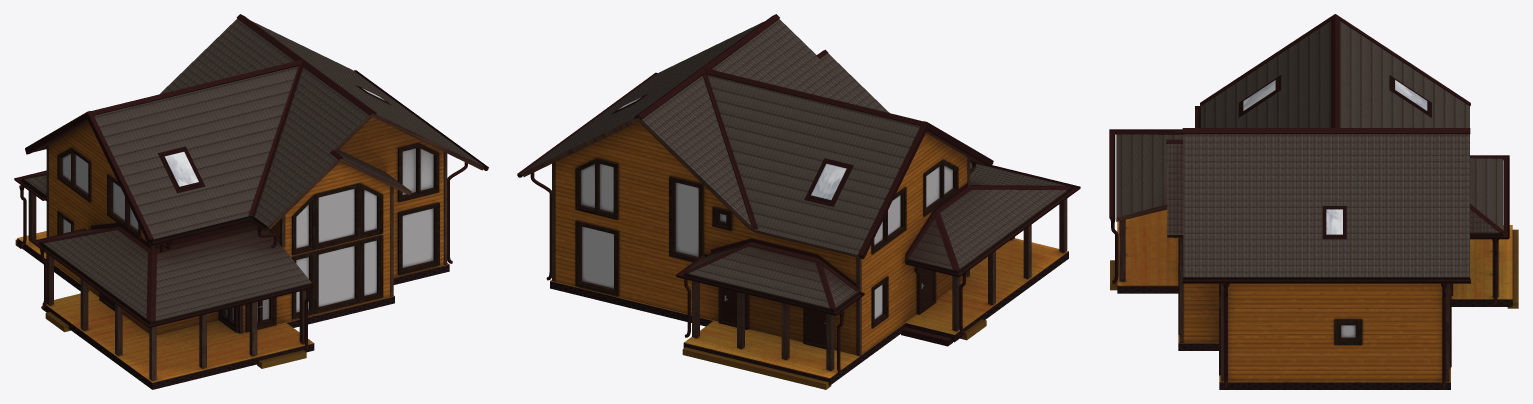
File: home.glb
The picture shows the model from 3 angles, left to right: view 1: azimuth 30°, elevation 25°; view 2: azimuth 150°, elevation 25°; view 3: azimuth 270°, elevation 25°; orthographic projection. The views are drawn at different scales.
Visible parts, largest first — view 1: 3. Roof 1_258, 4. Roof 2_255, 2. Main_254, 1. Foundation_257, Glass.002_77, Posts 1_259, Glass.003_78, Window.001_61, Rainshield.004_44, Window.002_62, Drain.001_32, Rainshield.006_46 (+15 smaller); view 2: 3. Roof 1_258, 2. Main_254, 1. Foundation_257, 4. Roof 2_255, 5. Roof 3_256, Glass.004_79, Rainshield.004_44, Posts 2_260, Rainshield.006_46, Posts 1_259, Glass.005_80, Door.003_74 (+19 smaller); view 3: 3. Roof 1_258, 2. Main_254, 1. Foundation_257, 4. Roof 2_255, Rainshield.004_44, 5. Roof 3_256, Drain_35, 6. Moldings_261, Rainshield.006_46, Glass.010_86, Drain.003_34, Drain.001_32 (+7 smaller).
Boxes of the visible parts, left/top/right/bottom form: 3. Roof 1_258: left=32, top=18, right=484, bottom=240; 4. Roof 2_255: left=41, top=228, right=311, bottom=322; 2. Main_254: left=49, top=117, right=443, bottom=334; 1. Foundation_257: left=17, top=231, right=449, bottom=389; Glass.002_77: left=296, top=189, right=376, bottom=312; Posts 1_259: left=46, top=253, right=306, bottom=380; Glass.003_78: left=402, top=148, right=433, bottom=267; Window.001_61: left=292, top=235, right=383, bottom=319; Rainshield.004_44: left=91, top=14, right=376, bottom=115; Window.002_62: left=292, top=183, right=383, bottom=255; Drain.001_32: left=32, top=228, right=313, bottom=327; Rainshield.006_46: left=25, top=111, right=153, bottom=243; 3. Roof 1_258: left=522, top=19, right=983, bottom=257; 2. Main_254: left=555, top=122, right=967, bottom=354; 1. Foundation_257: left=550, top=238, right=1068, bottom=385; 4. Roof 2_255: left=905, top=162, right=1071, bottom=271; 5. Roof 3_256: left=685, top=246, right=859, bottom=310; Glass.004_79: left=581, top=164, right=613, bottom=288; Rainshield.004_44: left=634, top=14, right=922, bottom=125; Posts 2_260: left=692, top=281, right=834, bottom=370; Rainshield.006_46: left=858, top=121, right=992, bottom=259; Posts 1_259: left=952, top=198, right=1067, bottom=331; Glass.005_80: left=675, top=182, right=726, bottom=256; Door.003_74: left=718, top=287, right=826, bottom=349; 3. Roof 1_258: left=1167, top=21, right=1469, bottom=278; 2. Main_254: left=1183, top=283, right=1442, bottom=381; 1. Foundation_257: left=1117, top=209, right=1512, bottom=389; 4. Roof 2_255: left=1116, top=131, right=1183, bottom=221; Rainshield.004_44: left=1182, top=16, right=1470, bottom=133; 5. Roof 3_256: left=1470, top=158, right=1503, bottom=234; Drain_35: left=1182, top=278, right=1470, bottom=283; 6. Moldings_261: left=1179, top=237, right=1449, bottom=381; Rainshield.006_46: left=1200, top=14, right=1470, bottom=106; Glass.010_86: left=1243, top=80, right=1427, bottom=234; Drain.003_34: left=1470, top=155, right=1509, bottom=239; Drain.001_32: left=1109, top=129, right=1182, bottom=220.
Size of the model in its own units: 4.47 by 2.26 by 3.9.
4 materials, 4 textured.
